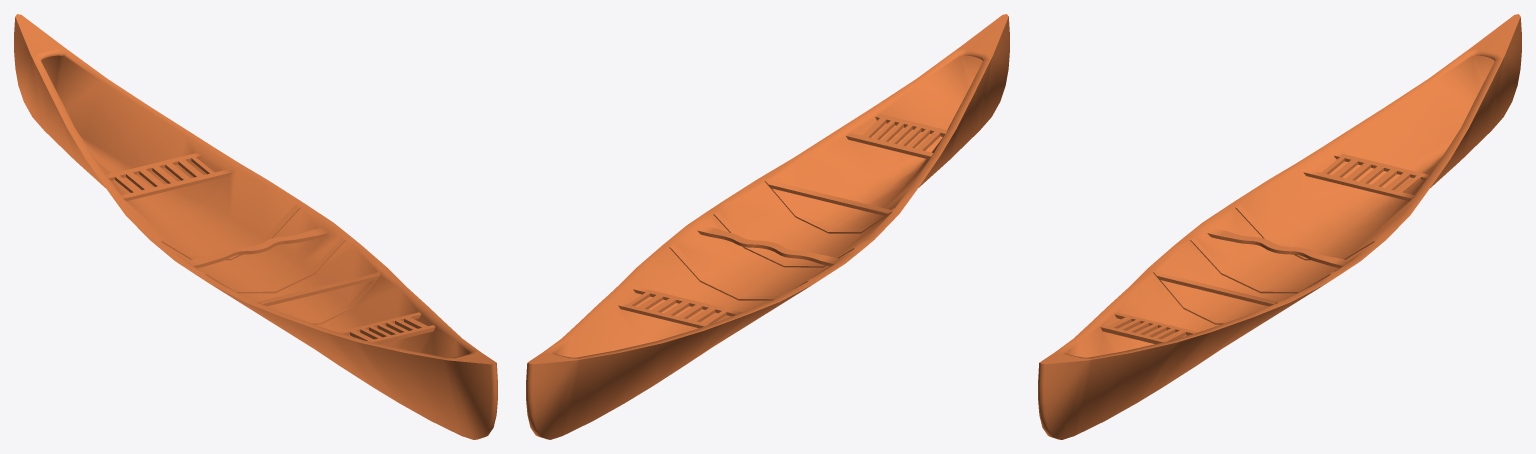
The model's file is canoa.2.FBX.
The picture shows the model from 3 angles, left to right: view 1: azimuth 30°, elevation 25°; view 2: azimuth 150°, elevation 25°; view 3: azimuth 330°, elevation 25°; orthographic projection.
Visible parts, largest first — view 1: canoe1; view 2: canoe1; view 3: canoe1.
Boxes of the visible parts, x1,y1,x2,y2 form: canoe1: [14, 14, 497, 439]; canoe1: [526, 14, 1009, 439]; canoe1: [1038, 14, 1521, 439].
Size of the model in its own units: 57.43 by 41.21 by 301.
